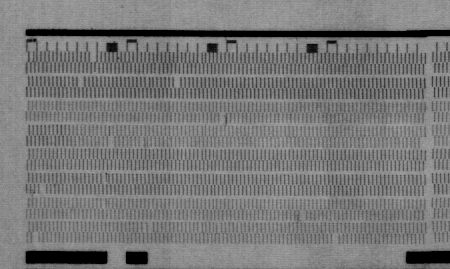Broken hole: (140, 221, 156, 234), (105, 136, 118, 149), (74, 75, 88, 87), (37, 181, 49, 195), (330, 232, 342, 246), (30, 232, 43, 244), (172, 76, 183, 90), (418, 135, 429, 149), (216, 111, 228, 123), (88, 50, 99, 63), (298, 210, 309, 223)
Oblique printing: (99, 171, 112, 186), (98, 196, 113, 209)
